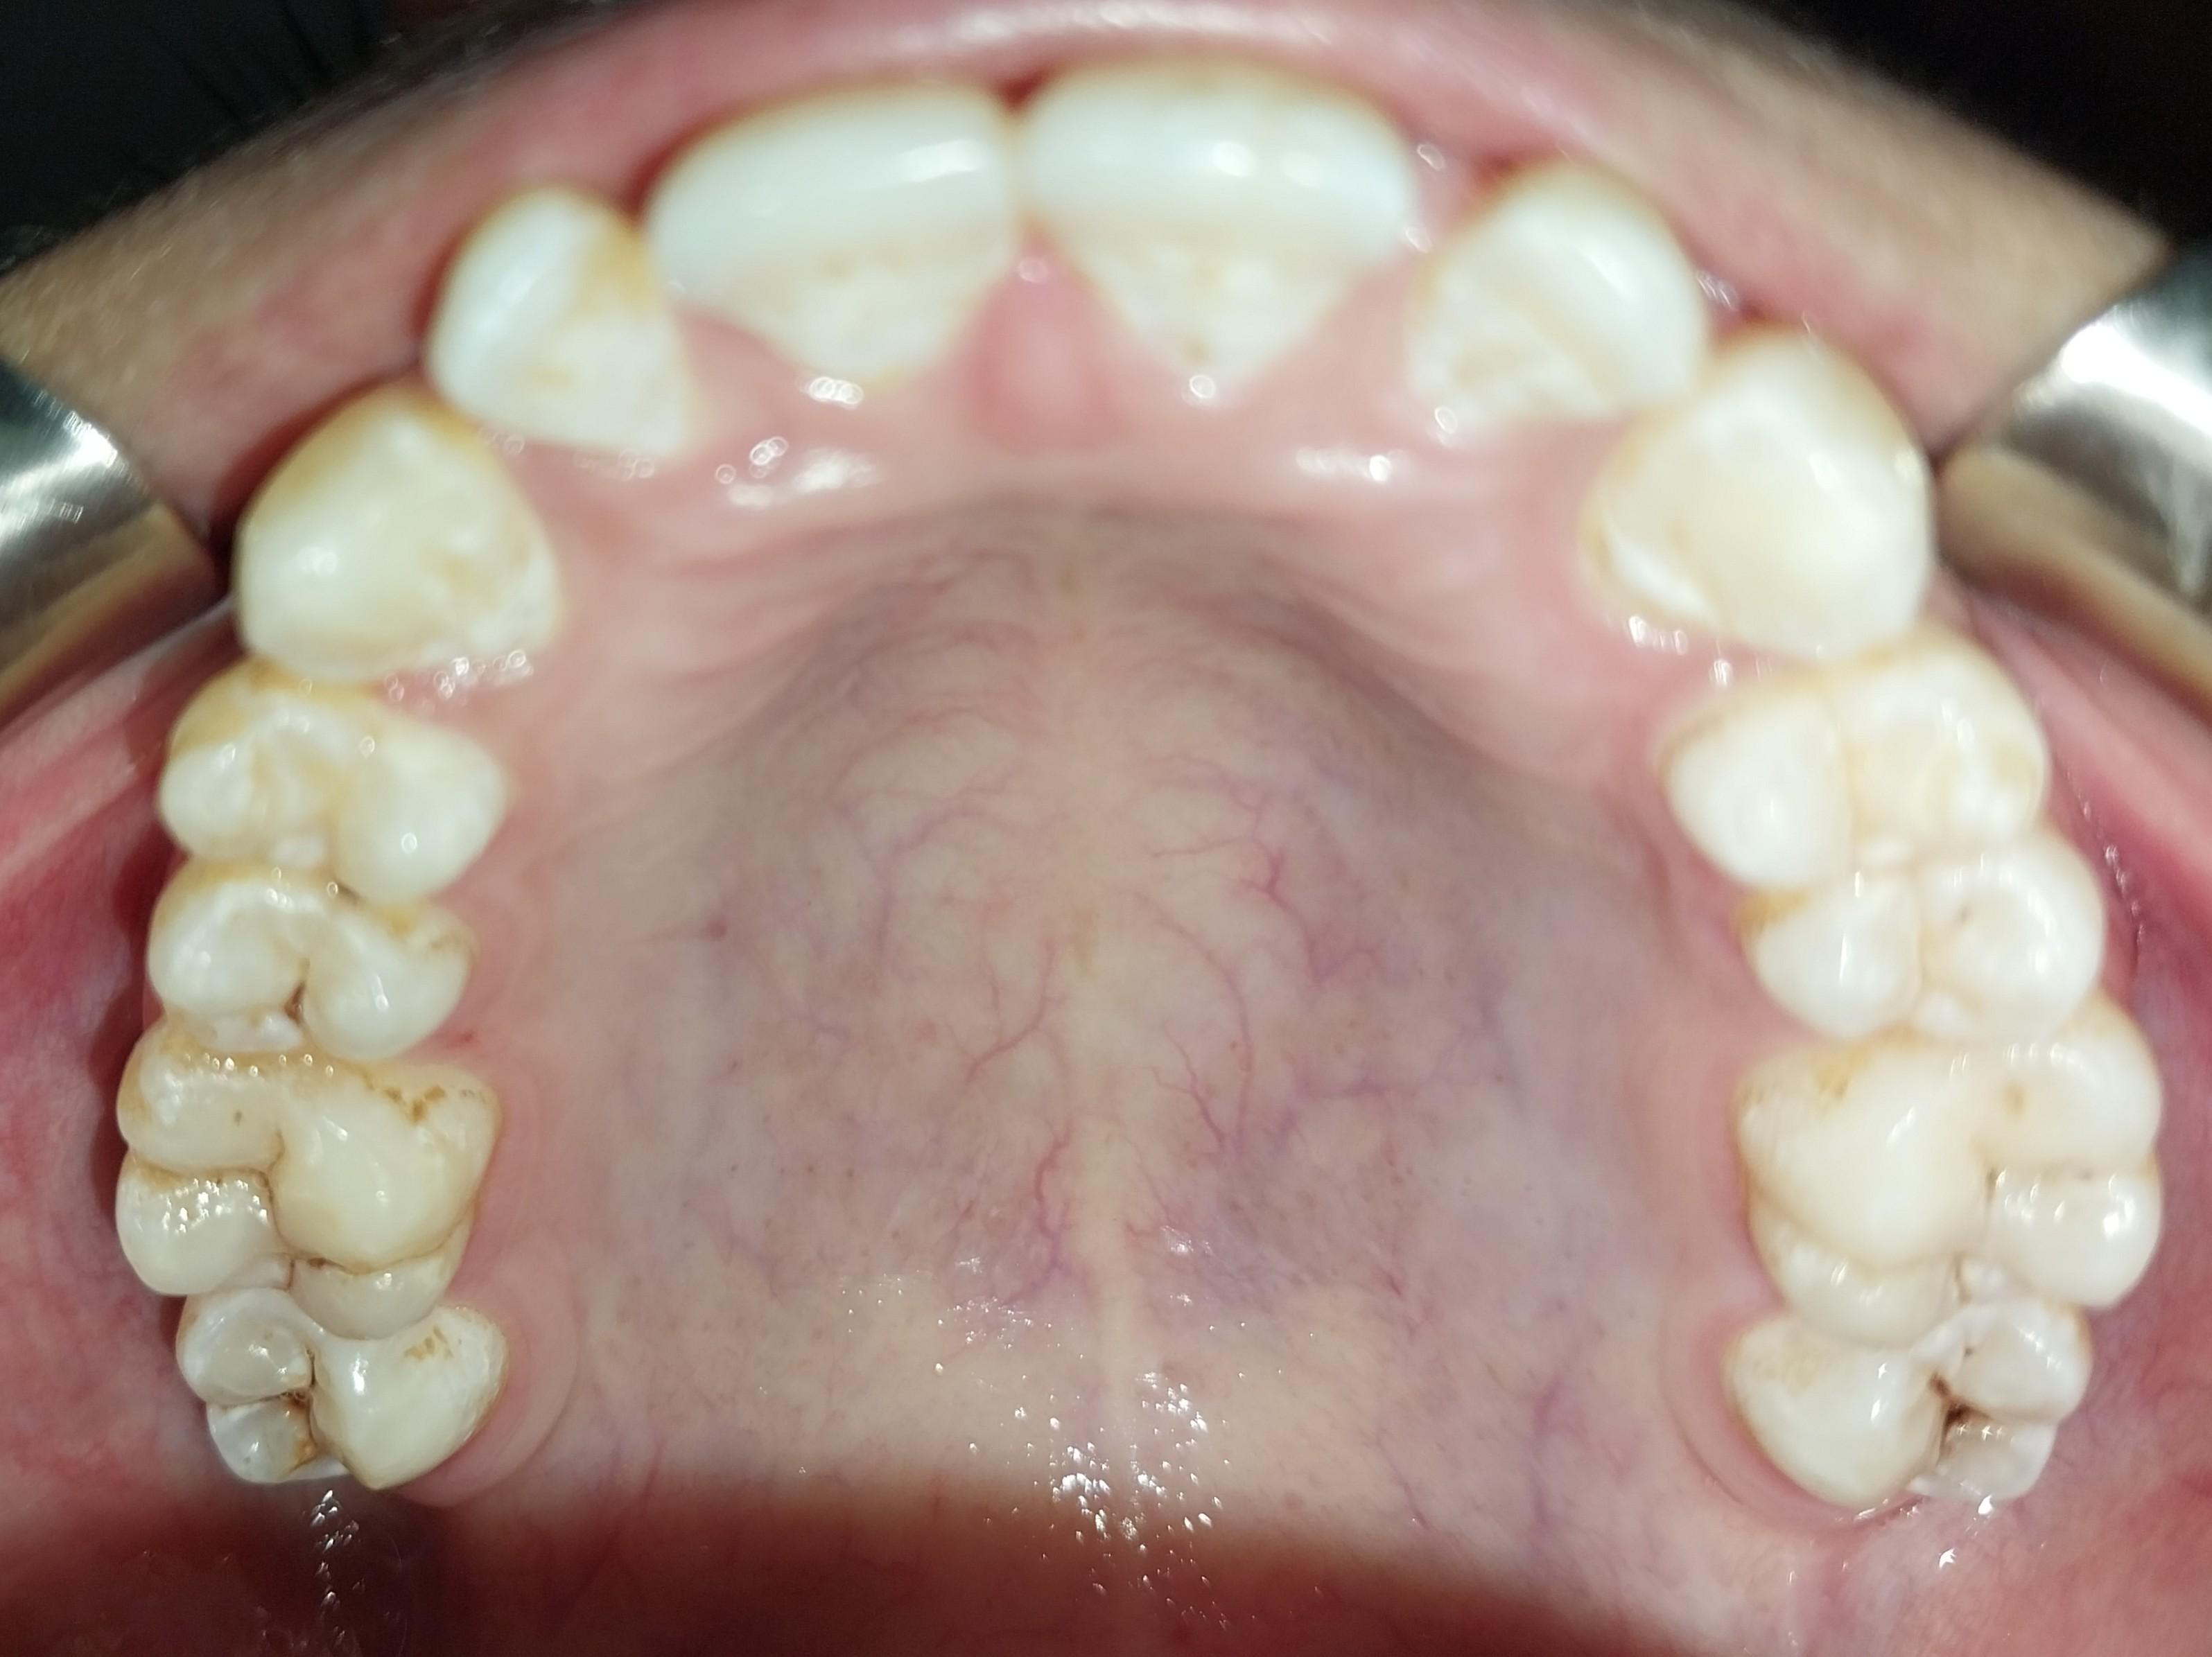D: (123, 1031, 485, 1322), (1755, 1308, 2084, 1504), (170, 1304, 496, 1501), (143, 851, 467, 1039)
